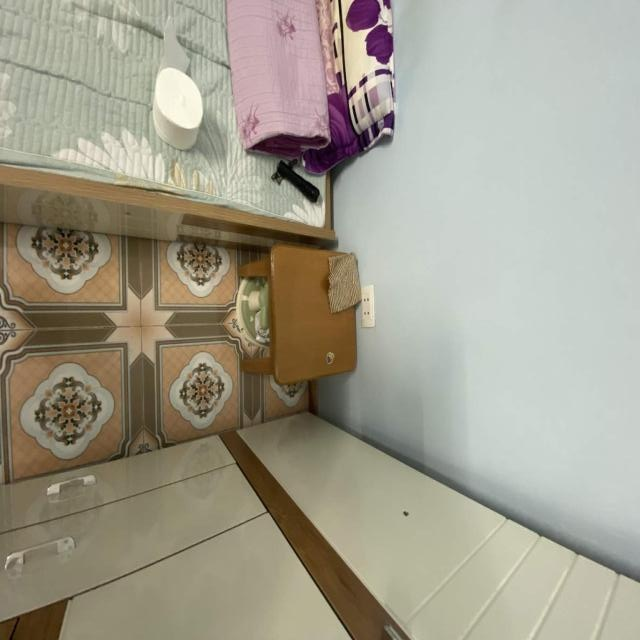outlet: (361, 285, 375, 327)
